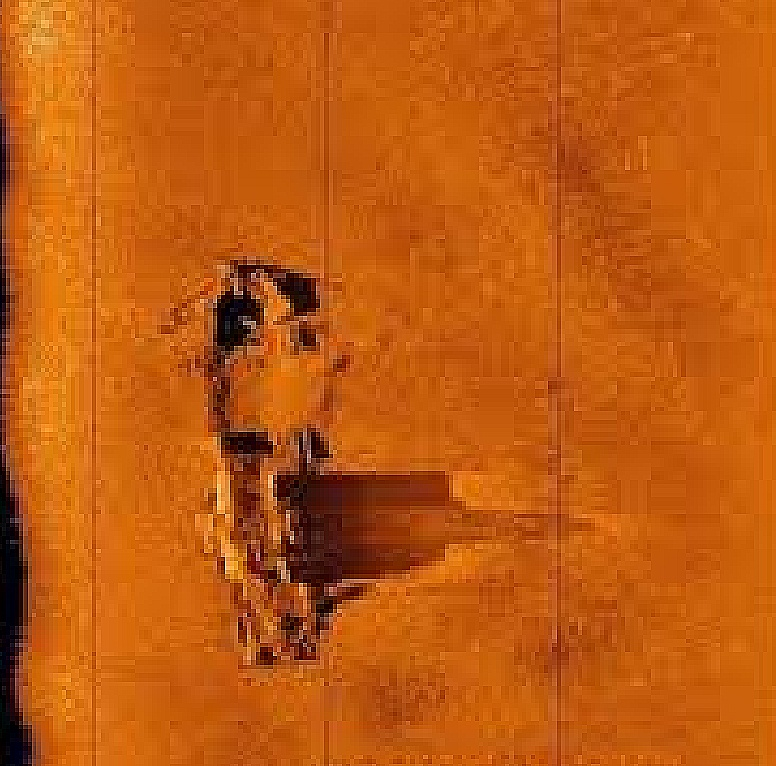ship: (196, 256, 342, 684)
